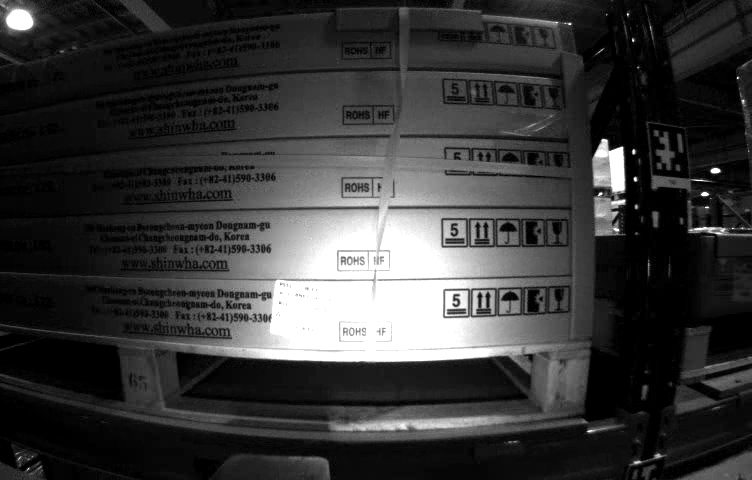True Barcode: (273, 275, 331, 347)
